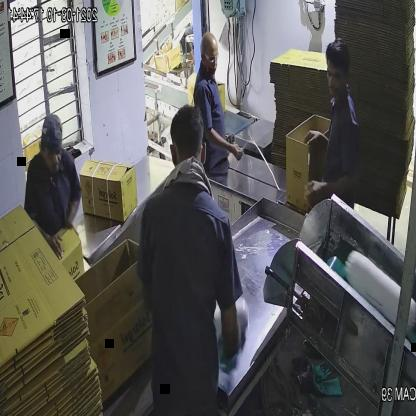no_glove: (302, 156, 366, 218), (204, 126, 248, 172), (299, 123, 333, 160)
